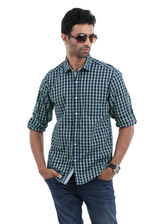clothoes: (21, 55, 140, 186)
glasses: (63, 30, 101, 45)
